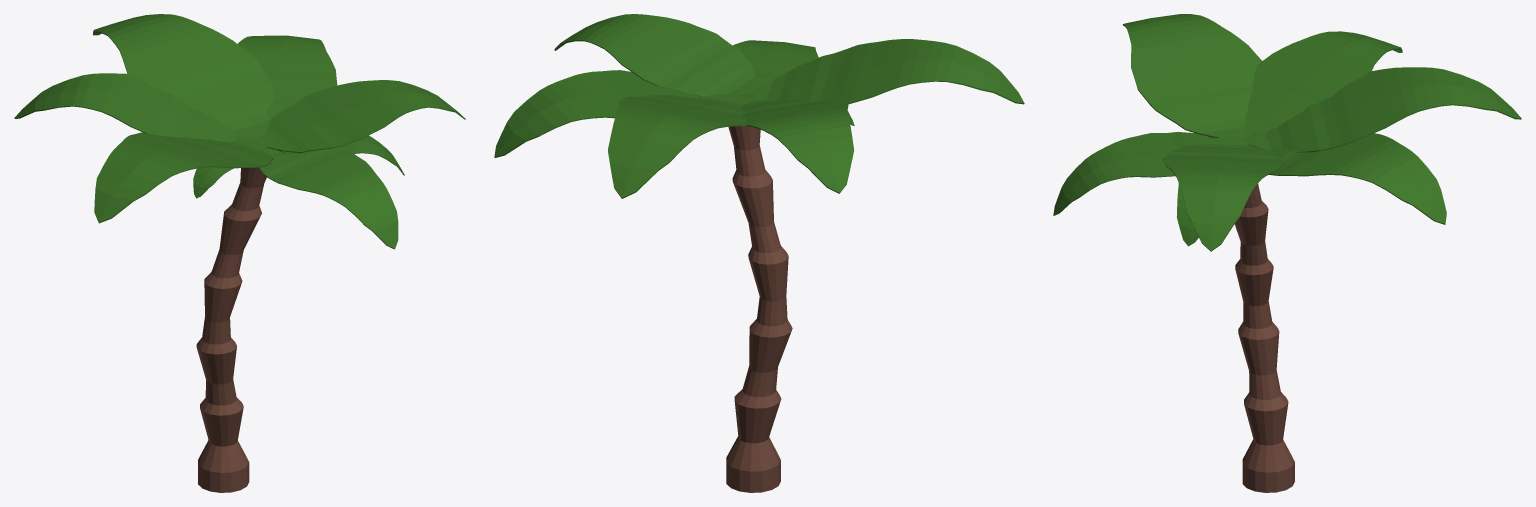
File: tree.fbx
3 views of the same model, side by side, from view 1: azimuth 30°, elevation 25°; view 2: azimuth 150°, elevation 25°; view 3: azimuth 270°, elevation 25° (orthographic). The views are drawn at different scales.
Visible parts, largest first — view 1: Leaf.005, Tree, Leaf, Leaf.003, Leaf.002, Leaf.004, Leaf.001, Leaf.006, Leaf.007; view 2: Tree, Leaf.003, Leaf, Leaf.005, Leaf.001, Leaf.002, Leaf.004; view 3: Leaf.003, Leaf.005, Tree, Leaf.002, Leaf, Leaf.001, Leaf.004, Leaf.006.
Boxes of the visible parts, x1,y1,x2,y2 form: Leaf.005: [93, 14, 275, 138]; Tree: [196, 167, 266, 492]; Leaf: [255, 80, 465, 152]; Leaf.003: [94, 132, 273, 223]; Leaf.002: [14, 73, 256, 141]; Leaf.004: [259, 148, 398, 249]; Leaf.001: [238, 35, 337, 119]; Leaf.006: [277, 135, 404, 175]; Leaf.007: [193, 167, 233, 198]; Tree: [726, 126, 792, 492]; Leaf.003: [746, 39, 1024, 104]; Leaf: [554, 14, 758, 96]; Leaf.005: [608, 93, 751, 198]; Leaf.001: [494, 70, 700, 157]; Leaf.002: [741, 95, 853, 193]; Leaf.004: [733, 40, 818, 85]; Leaf.003: [1122, 14, 1261, 138]; Leaf.005: [1244, 67, 1521, 152]; Tree: [1234, 184, 1294, 492]; Leaf.002: [1242, 31, 1402, 138]; Leaf: [1162, 136, 1284, 251]; Leaf.001: [1269, 133, 1446, 224]; Leaf.004: [1053, 132, 1214, 215]; Leaf.006: [1177, 183, 1198, 246].
Size of the model in its own units: 1132 by 1057 by 1120.
